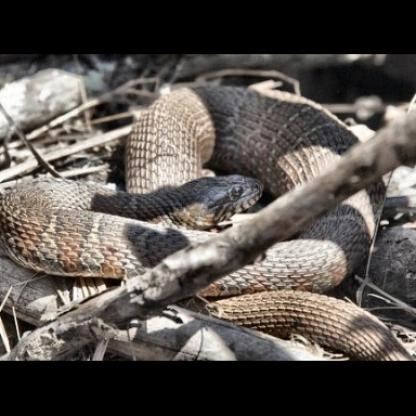Snake: (6, 72, 416, 335)
